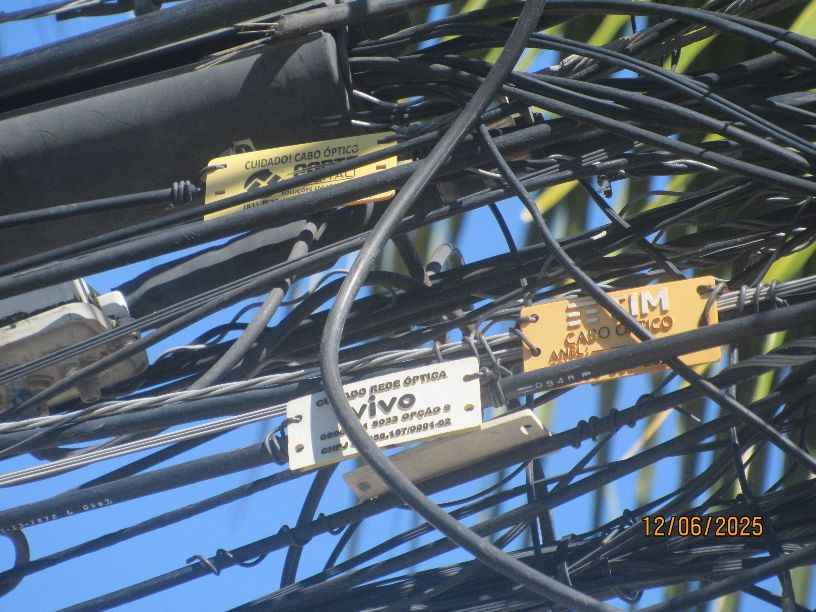fibra_optica: (262, 337, 506, 491)
